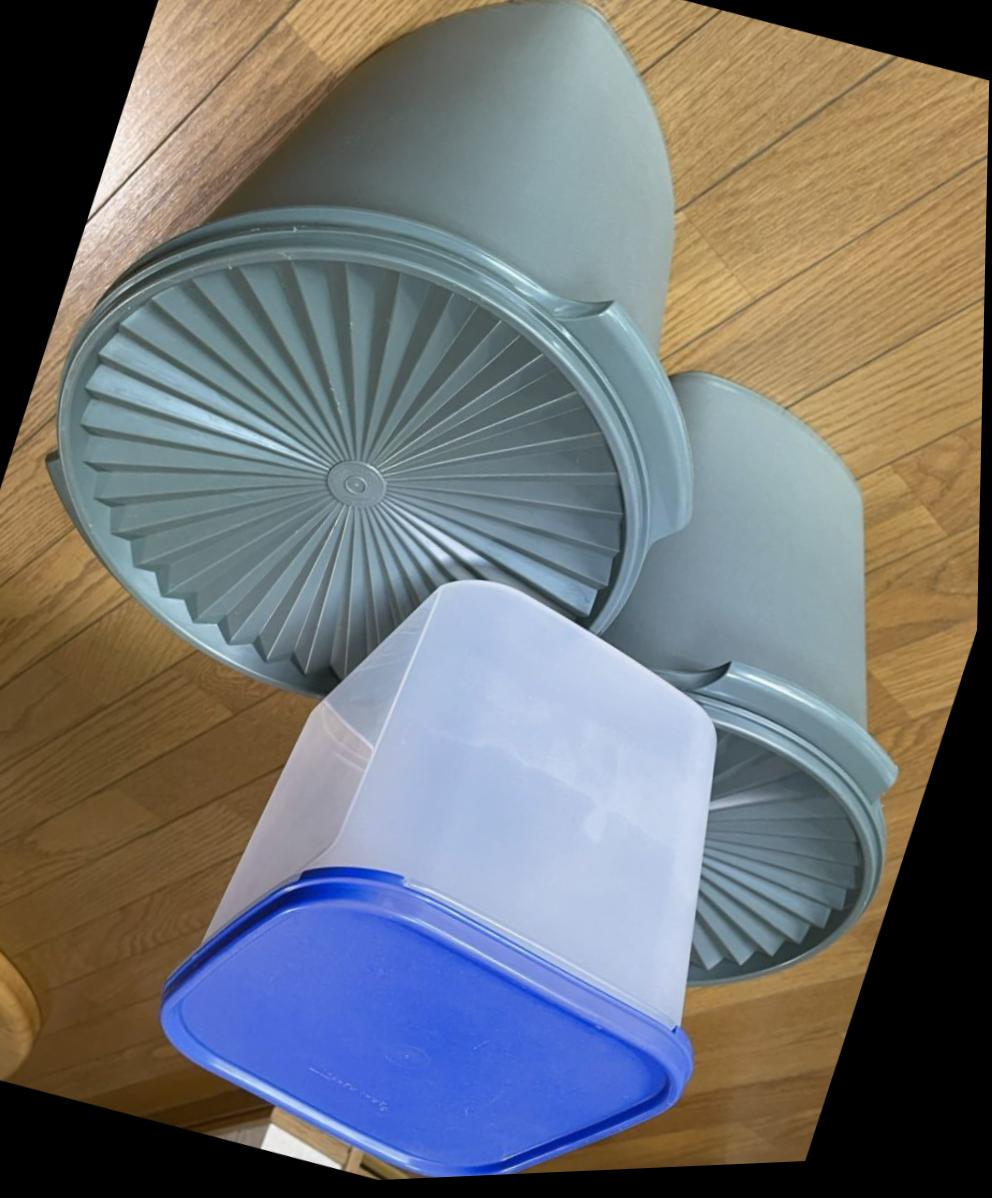plastic: (0, 0, 657, 727), (162, 581, 715, 1174), (607, 373, 895, 982)
